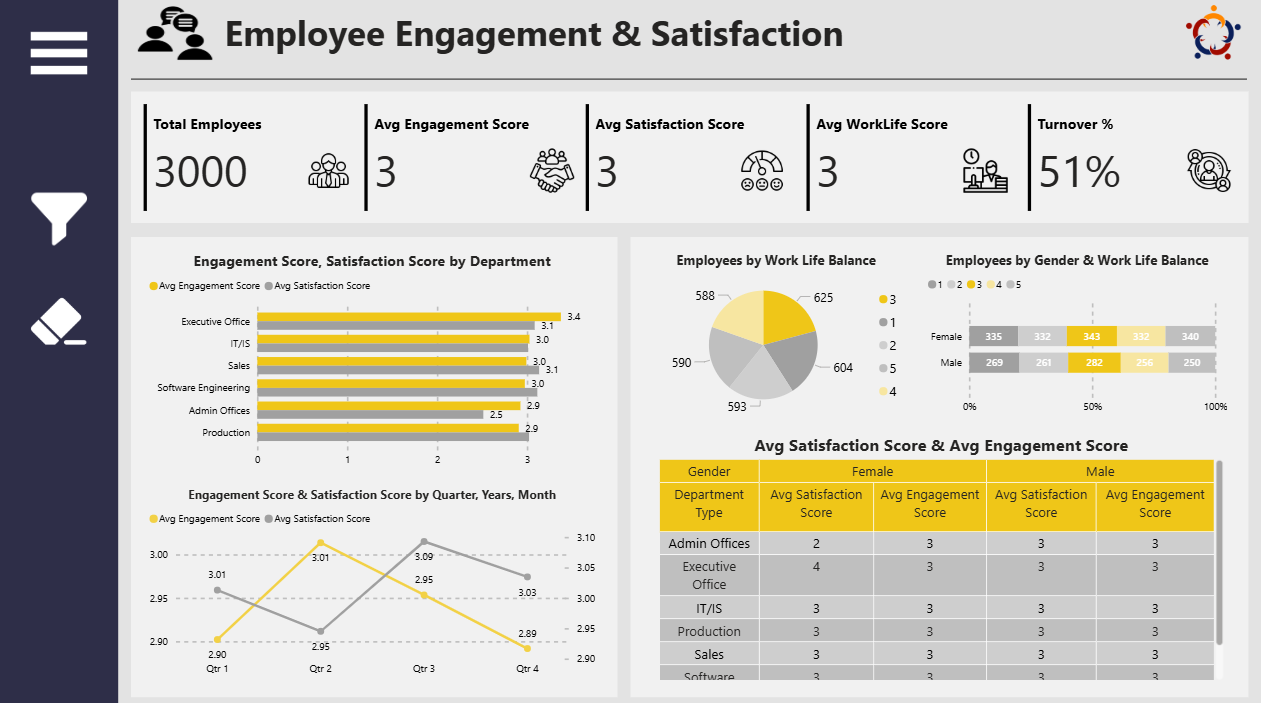

Layout of this report page (visuals, bound fields, positions):
{"tool":"powerbi","page":{"name":"Engagement & Satisfaction","canvas":[1536,864],"ordinal":1},"visuals":[{"type":"shape","box":[768,288,752,560],"z":0},{"type":"shape","box":[160,288,592,560],"z":1000},{"type":"shape","box":[160,112,1360,160],"z":2000},{"type":"clusteredBarChart","title":"Engagement Score, Satisfaction Score by Department","fields":{"Category":["employee_data.DepartmentType"],"Y":["Measure Table.Avg Engagement Score","Measure Table.Avg Satisfaction Score"]},"box":[177.9,304,554,272],"z":3000},{"type":"lineChart","title":"Engagement Score & Satisfaction Score by Quarter, Years, Month","fields":{"Y":["Measure Table.Avg Engagement Score"],"Y2":["Measure Table.Avg Satisfaction Score"],"Category":["employee_engagement_survey_data.Survey_Date.Variation.Date Hierarchy.Year","employee_engagement_survey_data.Survey_Date.Variation.Date Hierarchy.Quarter","employee_engagement_survey_data.Survey_Date.Variation.Date Hierarchy.Month"]},"box":[177.9,592,554,240],"z":4000},{"type":"pieChart","title":"Employees by Work Life Balance","fields":{"Category":["employee_engagement_survey_data.Work_Life_Balance_Score"],"Y":["Measure Table.All Emps"]},"box":[785.5,304,321.7,208],"z":5000},{"type":"hundredPercentStackedBarChart","title":"Employees by Gender & Work Life Balance","fields":{"Category":["employee_data.GenderCode"],"Series":["employee_engagement_survey_data.Work_Life_Balance_Score"],"Y":["Measure Table.All Emps"]},"box":[1125,304,375.3,208],"z":6000},{"type":"pivotTable","title":"Avg Satisfaction Score & Avg Engagement Score","fields":{"Values":["Measure Table.Avg Satisfaction Score","Measure Table.Avg Engagement Score"],"Columns":["employee_data.GenderCode"],"Rows":["employee_data.DepartmentType"]},"box":[785.5,528,714.8,304],"z":7000},{"type":"cardVisual","fields":{"Data":["Measure Table.All Emps","Measure Table.Avg Engagement Score","Measure Table.Avg Satisfaction Score","Measure Table.Avg WorkLife Score","Measure Table.Turnover %"]},"box":[160,112,1360,160],"z":8000},{"type":"textbox","box":[267.2,0,1268.8,80],"z":9000},{"type":"shape","box":[160,80,1358.1,32],"z":10000},{"type":"image","box":[160,0,107.2,80],"z":11000},{"type":"image","box":[368,176,64,64],"z":12000},{"type":"shape","box":[0,0,145.1,864],"z":14000},{"type":"image","box":[32.4,32.4,80.2,63],"z":15000},{"type":"image","box":[32.4,225.2,80.2,80.2],"z":16000},{"type":"image","box":[32.4,351.2,80.2,80.2],"z":17000},{"type":"image","box":[1439.2,0,78.3,80.2],"z":18000},{"type":"image","box":[640,176,64,64],"z":21000},{"type":"image","box":[896,176,64,64],"z":22000},{"type":"image","box":[1168,176,64,64],"z":23000},{"type":"image","box":[1440,176,64,64],"z":24000}]}

Visuals, with their boxes on the page's 1536x864 design canvas (x1, y1, x2, y2). These are canvas units, not pixel positions in the 1261x703 screenshot, which may show the page scaled, cropped or inside an application window:
shape: <box>768,288,1520,848</box>
shape: <box>160,288,752,848</box>
shape: <box>160,112,1520,272</box>
"Engagement Score, Satisfaction Score by Department" clusteredBarChart: <box>178,304,732,576</box>
"Engagement Score & Satisfaction Score by Quarter, Years, Month" lineChart: <box>178,592,732,832</box>
"Employees by Work Life Balance" pieChart: <box>786,304,1107,512</box>
"Employees by Gender & Work Life Balance" hundredPercentStackedBarChart: <box>1125,304,1500,512</box>
"Avg Satisfaction Score & Avg Engagement Score" pivotTable: <box>786,528,1500,832</box>
cardVisual - Measure Table.All Emps x Measure Table.Avg Engagement Score: <box>160,112,1520,272</box>
textbox: <box>267,0,1536,80</box>
shape: <box>160,80,1518,112</box>
image: <box>160,0,267,80</box>
image: <box>368,176,432,240</box>
shape: <box>0,0,145,864</box>
image: <box>32,32,113,95</box>
image: <box>32,225,113,305</box>
image: <box>32,351,113,431</box>
image: <box>1439,0,1518,80</box>
image: <box>640,176,704,240</box>
image: <box>896,176,960,240</box>
image: <box>1168,176,1232,240</box>
image: <box>1440,176,1504,240</box>
